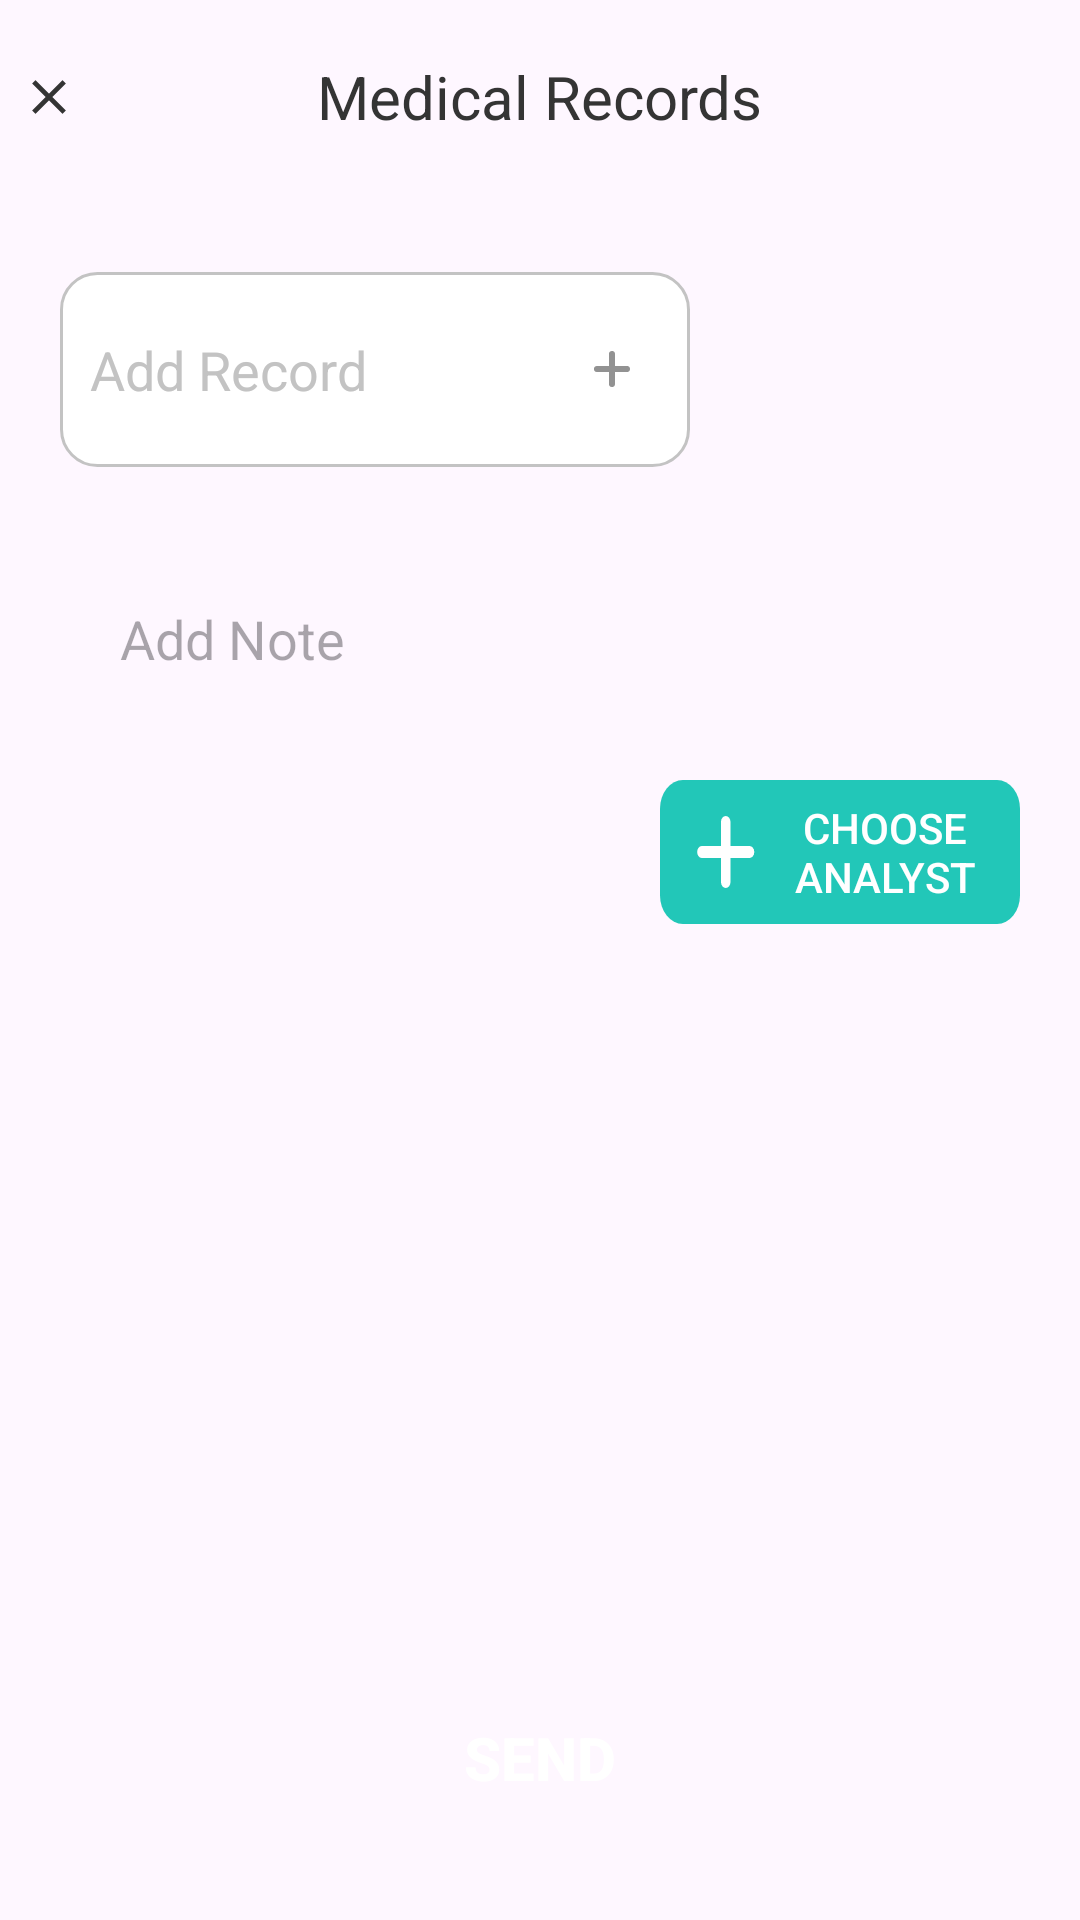

Named icons in this screenshot (1080w x 1920h) and their centers, point (x, y):
close: point (49, 97)
